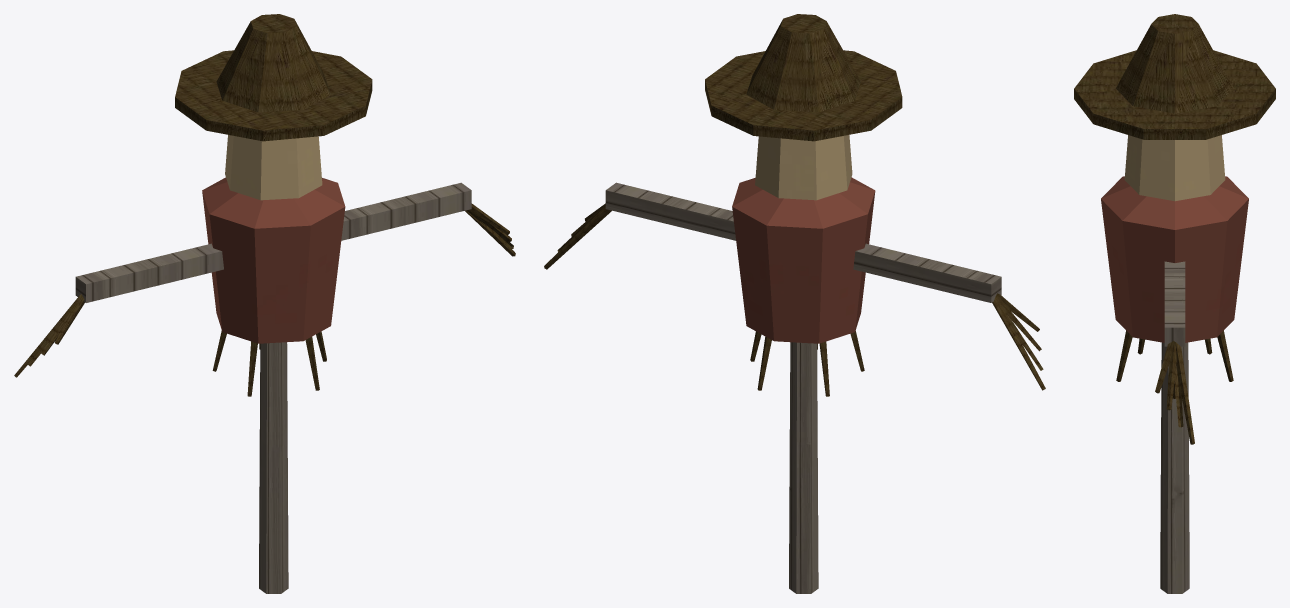
File: scarecrow_01.glb
3 renders of one model, left to right at view 1: azimuth 30°, elevation 25°; view 2: azimuth 150°, elevation 25°; view 3: azimuth 270°, elevation 25°, orthographic.
Parts seen in each view (by area): view 1: scarecrow_01; view 2: scarecrow_01; view 3: scarecrow_01.
Boxes of the visible parts, bbox=[...] form: scarecrow_01: bbox=[14, 14, 515, 593]; scarecrow_01: bbox=[544, 14, 1045, 593]; scarecrow_01: bbox=[1074, 14, 1275, 593].
Size of the model in its own units: 1.95 by 2.1 by 0.6799.
4 materials, 4 textured.
